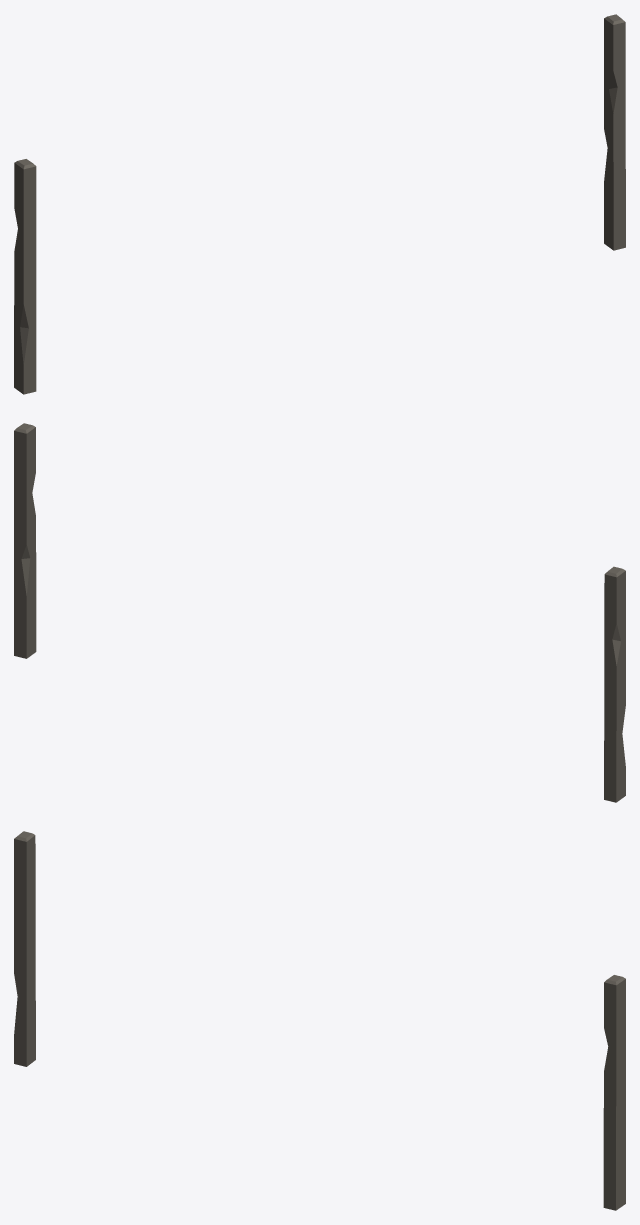
Rendered from SM_Prop_Washingline_Poles_01.fbx.
3 views of the same model, one above another, from view 1: azimuth 30°, elevation 25°; view 2: azimuth 150°, elevation 25°; view 3: azimuth 330°, elevation 25° (orthographic).
Parts seen in each view (by area): view 1: SM_Prop_Washingline_Poles_01; view 2: SM_Prop_Washingline_Poles_01; view 3: SM_Prop_Washingline_Poles_01.
Part boxes in pixels (box(x1,y1,x2,y2)): SM_Prop_Washingline_Poles_01: box(14, 14, 625, 394); SM_Prop_Washingline_Poles_01: box(14, 423, 625, 802); SM_Prop_Washingline_Poles_01: box(14, 831, 625, 1210).
Size of the model in its own units: 708 by 255 by 19.64.
